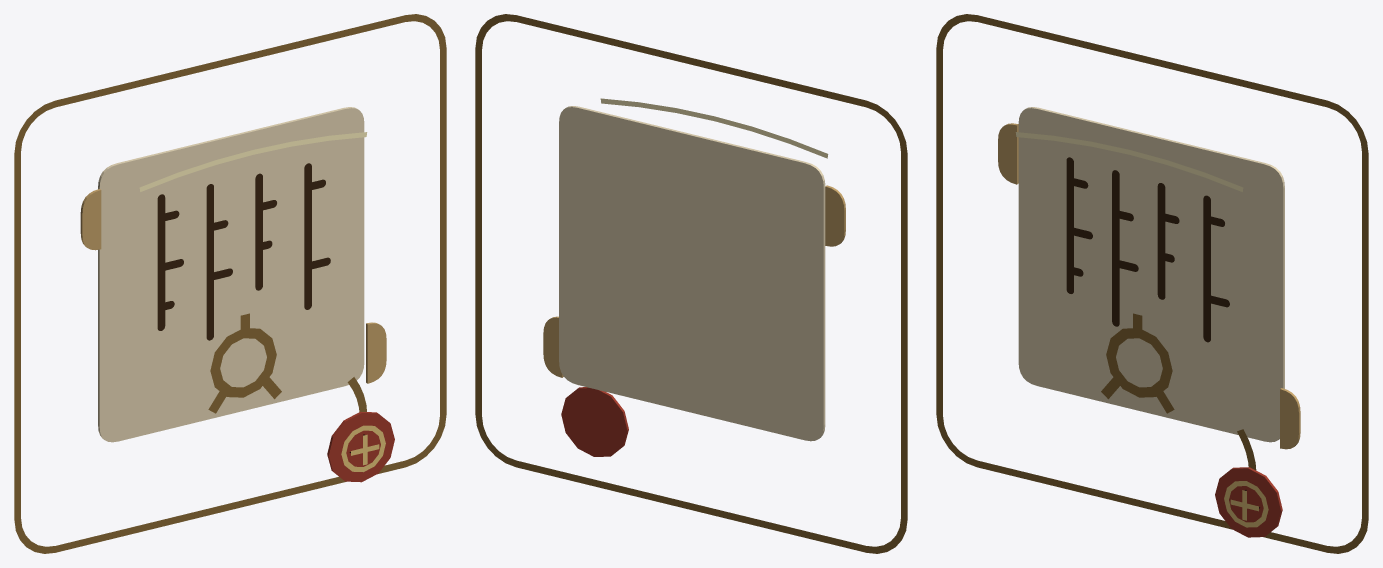
The model's file is obj-yarlyk-khana.glb.
3 views of the same model, side by side, from view 1: azimuth 30°, elevation 25°; view 2: azimuth 150°, elevation 25°; view 3: azimuth 330°, elevation 25° (orthographic).
Visible parts, largest first — view 1: obj-yarlyk-khana; view 2: obj-yarlyk-khana; view 3: obj-yarlyk-khana.
Part boxes in pixels (box(x1,y1,x2,y2)): obj-yarlyk-khana: box(14, 14, 446, 553); obj-yarlyk-khana: box(475, 14, 907, 553); obj-yarlyk-khana: box(936, 14, 1368, 553).
Size of the model in its own units: 0.3808 by 0.3808 by 0.0351.
